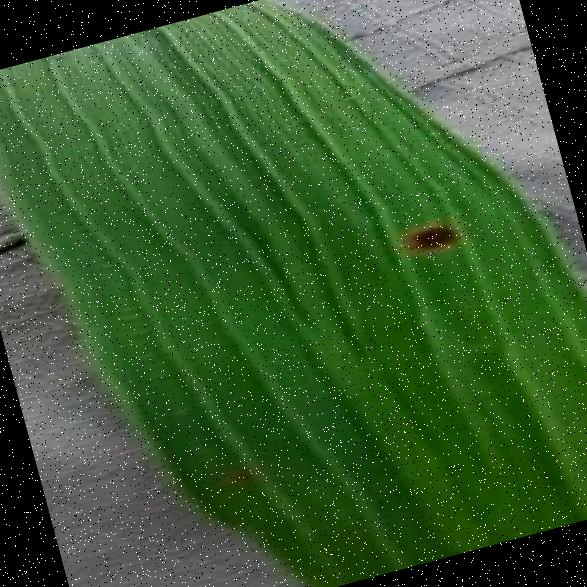Brown_Spot: (374, 195, 474, 276), (212, 452, 262, 495)
